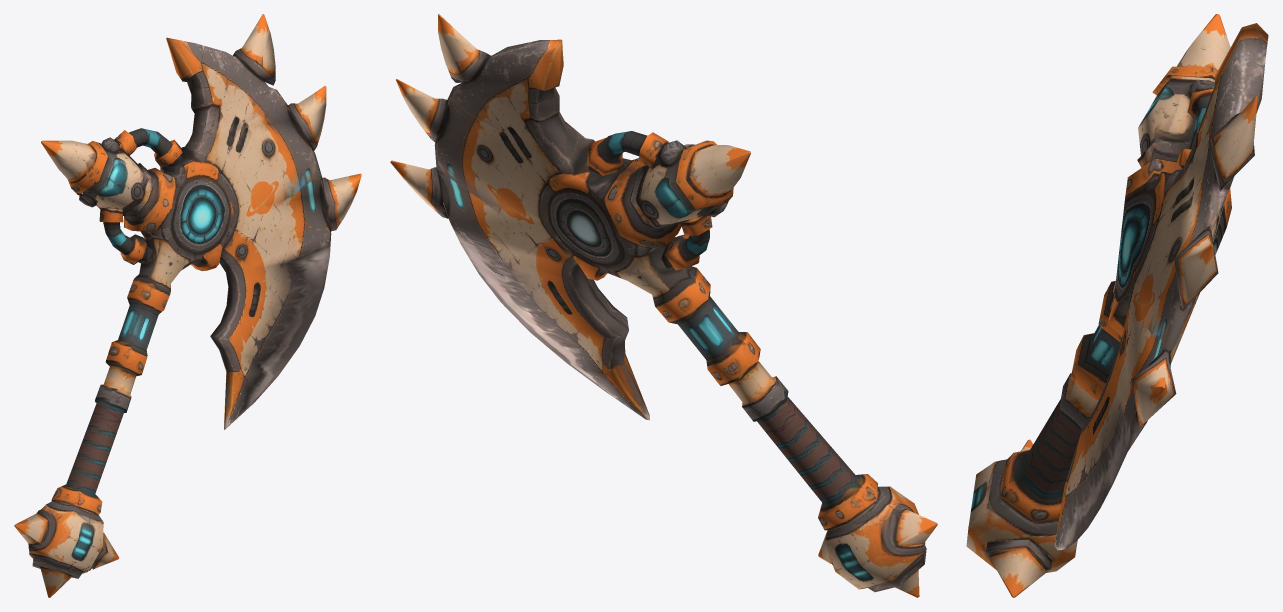
File: alien_axe.glb
3 renders of one model, left to right at view 1: azimuth 30°, elevation 25°; view 2: azimuth 150°, elevation 25°; view 3: azimuth 270°, elevation 25°, orthographic. The views are drawn at different scales.
Visible parts, largest first — view 1: tripo_node_e9d8864f-3ab1-4483-a1c7-ab33970d4045; view 2: tripo_node_e9d8864f-3ab1-4483-a1c7-ab33970d4045; view 3: tripo_node_e9d8864f-3ab1-4483-a1c7-ab33970d4045.
Boxes of the visible parts, box(x1,y1,x2,y2) form: tripo_node_e9d8864f-3ab1-4483-a1c7-ab33970d4045: box(14, 14, 361, 597); tripo_node_e9d8864f-3ab1-4483-a1c7-ab33970d4045: box(390, 14, 937, 597); tripo_node_e9d8864f-3ab1-4483-a1c7-ab33970d4045: box(966, 14, 1268, 597).
Size of the model in its own units: 0.9058 by 0.9995 by 0.3921.
Materials: 1 (1 with a texture image).
